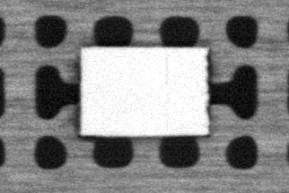DIE_CRACK: (162, 55, 170, 85)
